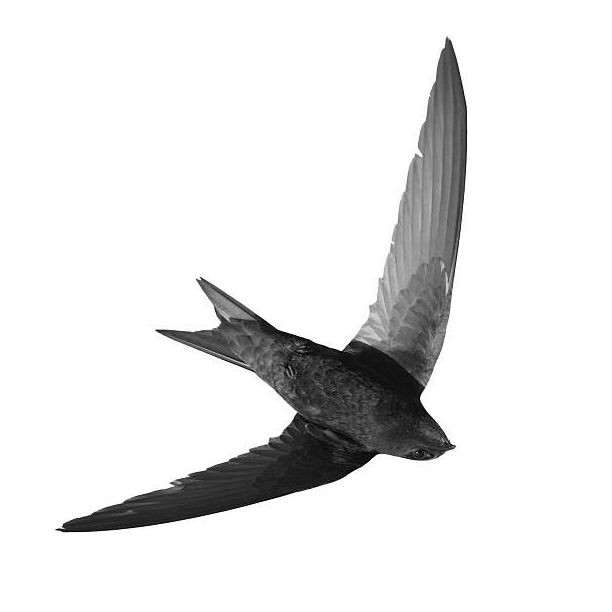Bird: (52, 28, 470, 538)
